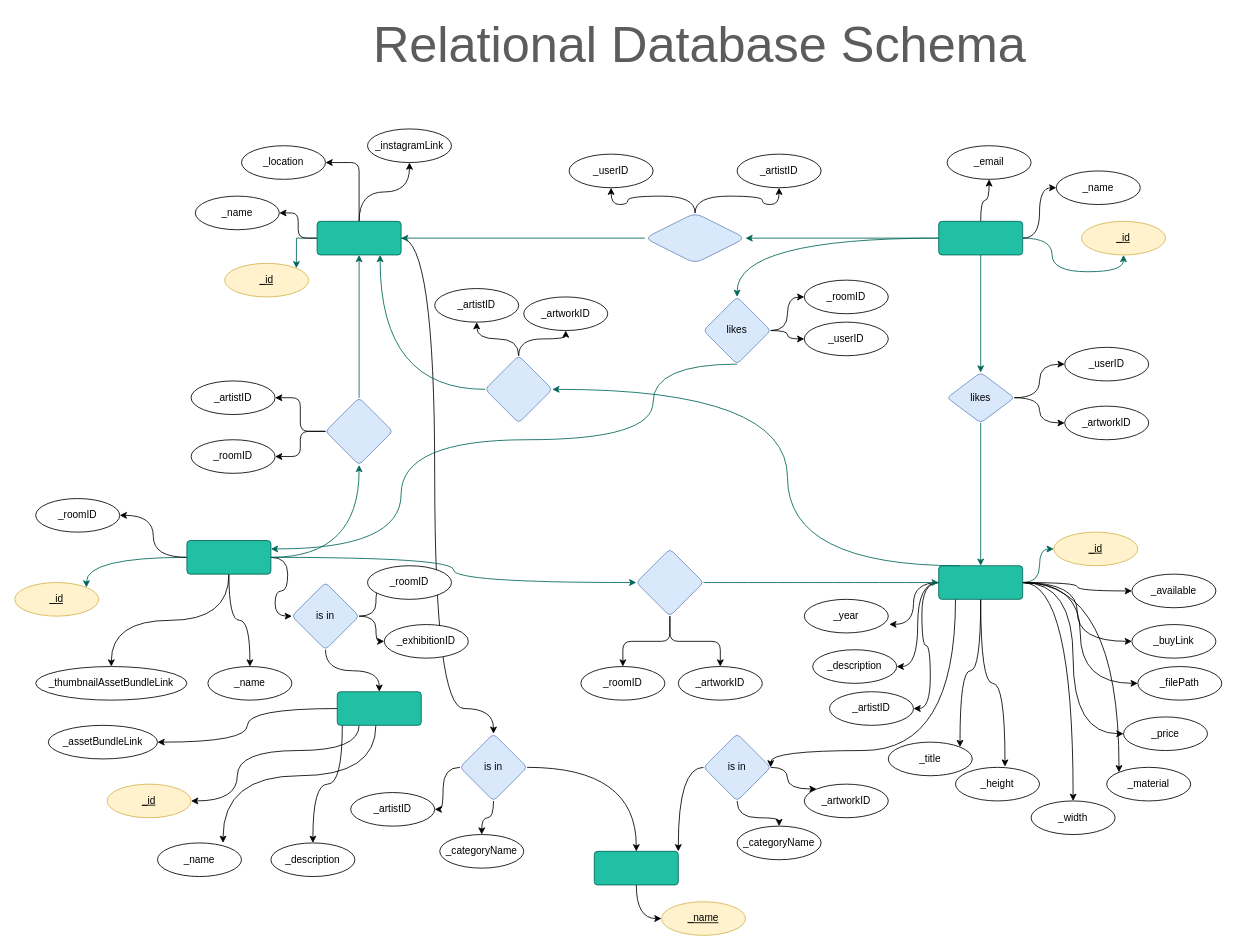
Some shapes in this 1236 by 950 pixel diagram are drawn without their labels. The shapes that lost their labels are listed below. From the top down, each one's box as (x1, y1, x2, y2) in pixels, then its label:
(316, 220, 401, 255): Artist
(644, 212, 746, 263): follows
(938, 220, 1023, 255): User
(484, 355, 552, 423): created by
(325, 397, 393, 465): exhibits
(186, 540, 271, 574): Exhibition
(635, 548, 704, 616): contains
(938, 565, 1023, 599): Artwork
(336, 691, 421, 725): Room
(593, 850, 678, 885): Category
